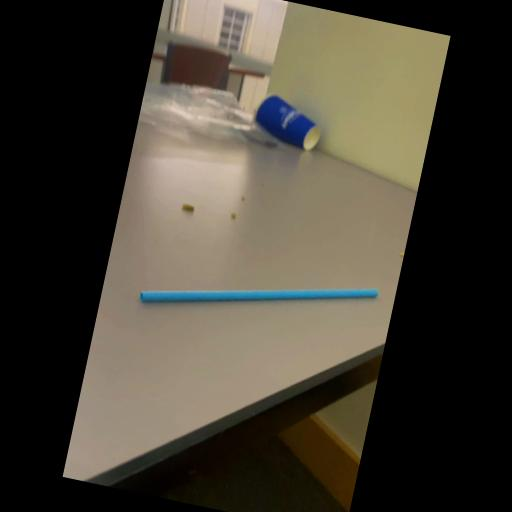lp_paper_cup: (244, 86, 328, 159)
straw: (133, 230, 382, 356)
